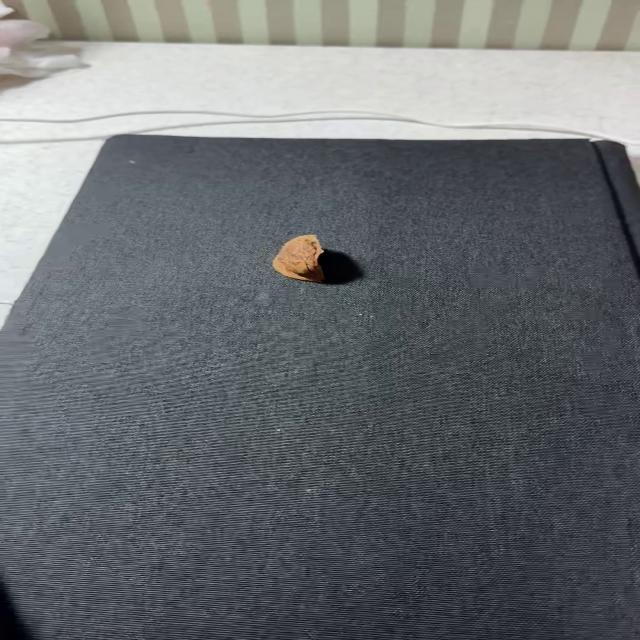nuts-bad0.25: (274, 235, 324, 282)
